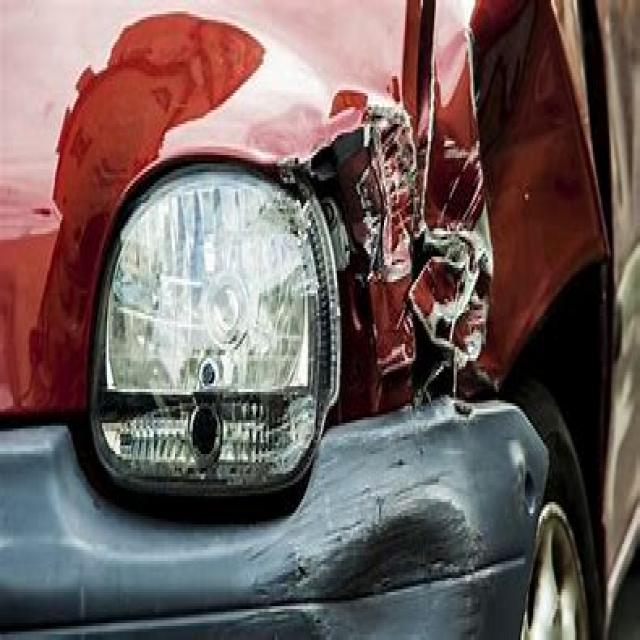Accident: (156, 65, 611, 452)
